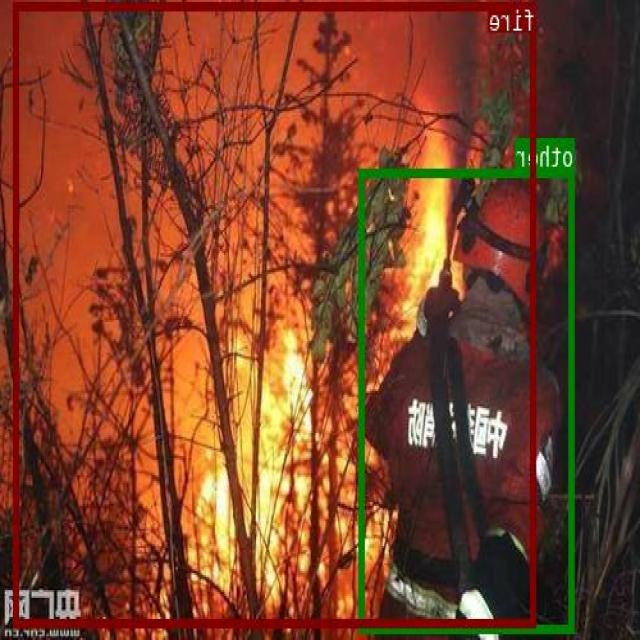fire: (15, 0, 538, 626)
other: (361, 167, 575, 631)
